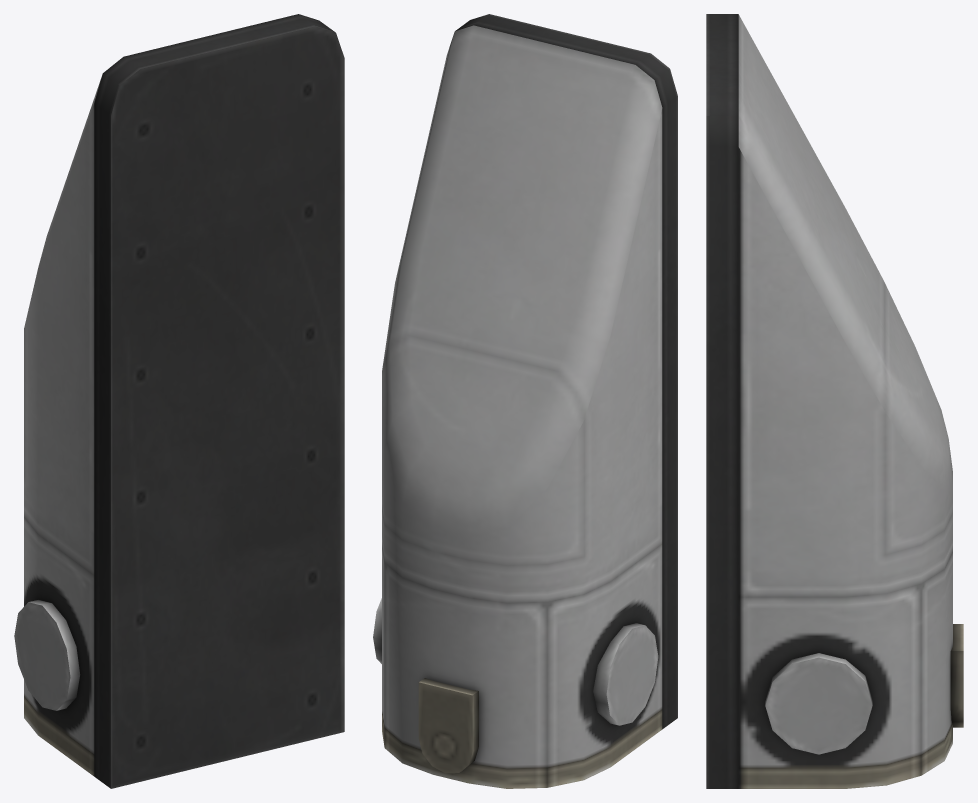
The model's file is upper vernier.obj.
3 views of the same model, side by side, from view 1: azimuth 30°, elevation 25°; view 2: azimuth 150°, elevation 25°; view 3: azimuth 270°, elevation 25° (orthographic). The views are drawn at different scales.
Parts seen in each view (by area): view 1: 2; view 2: 2; view 3: 2.
Part boxes in pixels (x1,y1,x2,y2): 2: (14,14,344,788); 2: (373,14,677,788); 2: (706,14,963,788).
Size of the model in its own units: 0.325 by 0.875 by 0.3.
1 material, 1 textured.
